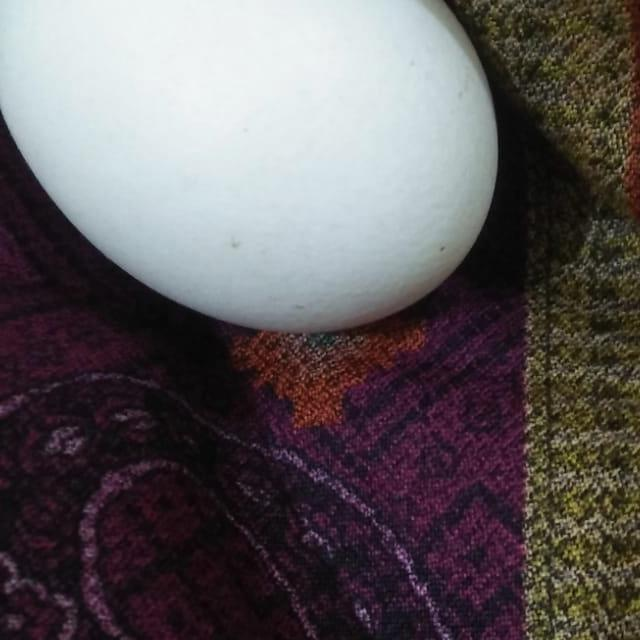egg: (0, 0, 502, 336)
